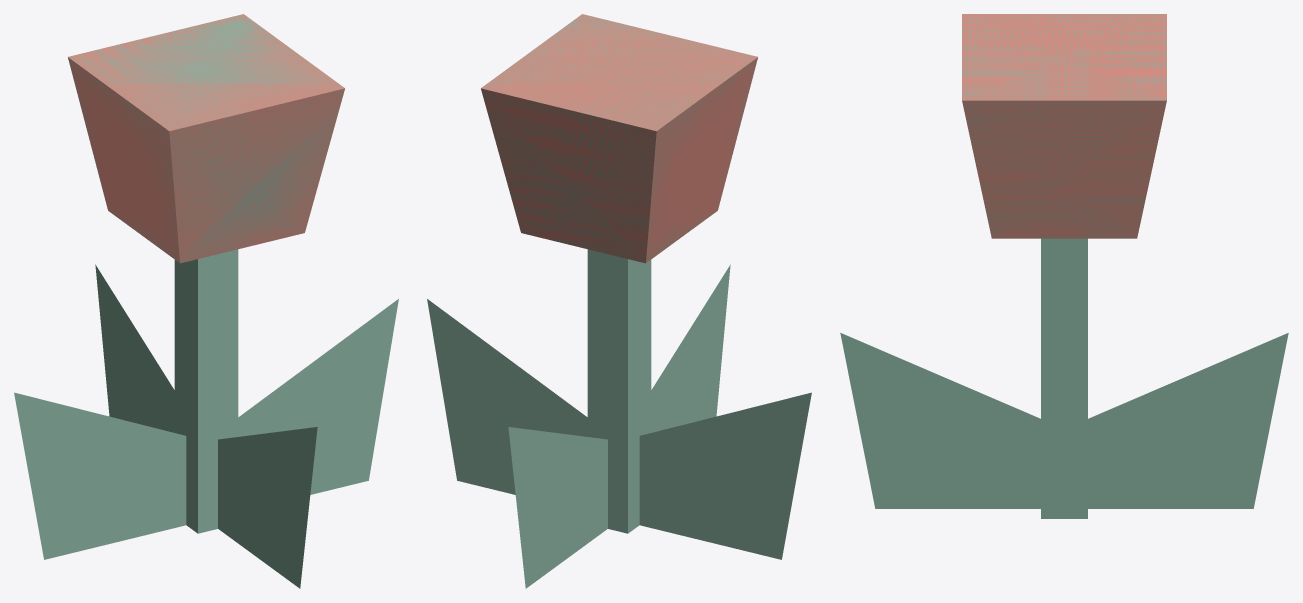
Rendered from flower_tall_red_01.gltf.
3 views of the same model, side by side, from view 1: azimuth 30°, elevation 25°; view 2: azimuth 150°, elevation 25°; view 3: azimuth 270°, elevation 25° (orthographic).
Visible parts, largest first — view 1: Node31, Node24, Node18, Node25, Node19, Node26, Node29, Node20, Node11, Node12, Node27, Node30 (+4 smaller); view 2: Node22, Node31, Node18, Node26, Node23, Node20, Node28, Node19, Node27, Node5, Node29, Node15 (+4 smaller); view 3: Node16, Node27, Node29, Node30, Node18, Node1, Node17, Node2, Node19, Node28.
Part boxes in pixels (left/top/right/bottom): Node31: left=14, top=392, right=186, bottom=559; Node24: left=169, top=88, right=344, bottom=263; Node18: left=68, top=14, right=344, bottom=130; Node25: left=169, top=89, right=344, bottom=262; Node19: left=69, top=14, right=342, bottom=130; Node26: left=238, top=299, right=398, bottom=494; Node29: left=218, top=427, right=317, bottom=588; Node20: left=68, top=57, right=179, bottom=262; Node11: left=198, top=249, right=238, bottom=533; Node12: left=198, top=249, right=238, bottom=533; Node27: left=95, top=265, right=174, bottom=432; Node30: left=218, top=427, right=317, bottom=588; Node22: left=481, top=88, right=656, bottom=263; Node31: left=639, top=392, right=811, bottom=559; Node18: left=481, top=14, right=757, bottom=131; Node26: left=427, top=299, right=587, bottom=494; Node23: left=481, top=89, right=656, bottom=262; Node20: left=646, top=57, right=757, bottom=262; Node28: left=508, top=427, right=607, bottom=587; Node19: left=482, top=14, right=757, bottom=130; Node27: left=508, top=427, right=607, bottom=588; Node5: left=587, top=249, right=627, bottom=533; Node29: left=651, top=264, right=730, bottom=432; Node15: left=587, top=250, right=627, bottom=532; Node16: left=962, top=100, right=1166, bottom=238; Node27: left=1088, top=333, right=1288, bottom=508; Node29: left=840, top=333, right=1040, bottom=508; Node30: left=841, top=333, right=1040, bottom=508; Node18: left=962, top=14, right=1166, bottom=100; Node1: left=1041, top=238, right=1087, bottom=518; Node17: left=962, top=100, right=1166, bottom=238; Node2: left=1041, top=239, right=1087, bottom=518; Node19: left=962, top=14, right=1166, bottom=100; Node28: left=1088, top=334, right=1288, bottom=508.
Size of the model in its own units: 0.4859 by 0.54 by 0.4859.
